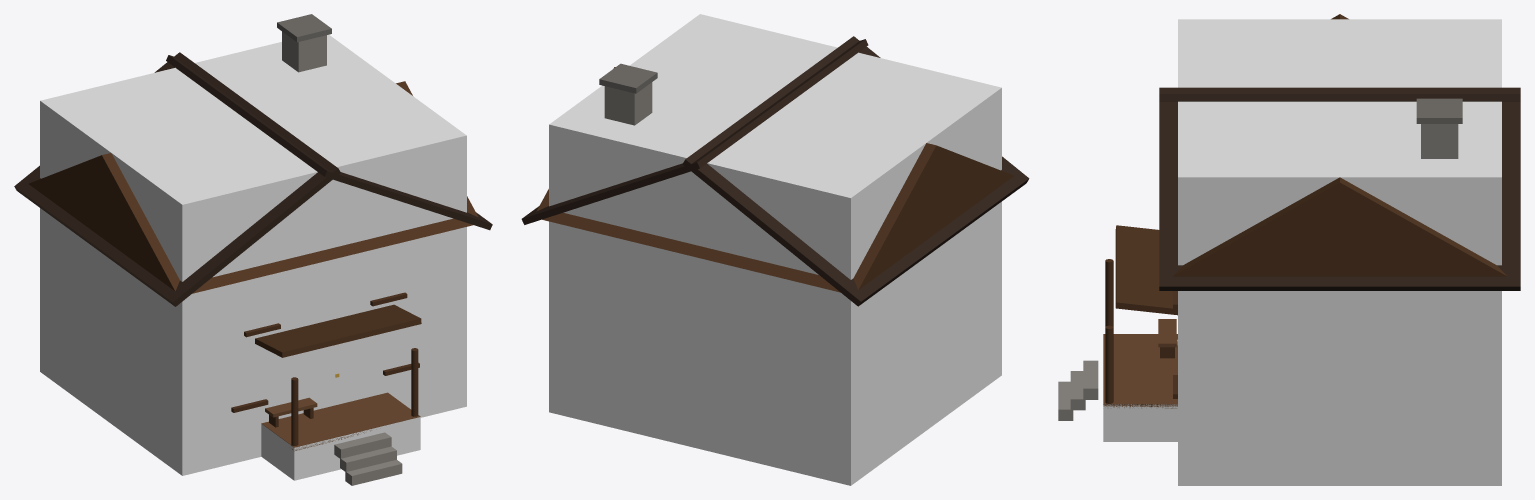
File: refugio.glb
3 views of the same model, side by side, from view 1: azimuth 30°, elevation 25°; view 2: azimuth 150°, elevation 25°; view 3: azimuth 270°, elevation 25° (orthographic). The views are drawn at different scales.
Visible parts, largest first — view 1: COL_0, refugio_Malla, COL_1; view 2: COL_0, refugio_Malla; view 3: COL_0, refugio_Malla, COL_1.
Boxes of the visible parts, x1=… form: COL_0: x1=40, y1=34, x2=466, y2=475; refugio_Malla: x1=14, y1=14, x2=492, y2=485; COL_1: x1=261, y1=417, x2=420, y2=480; COL_0: x1=549, y1=14, x2=1001, y2=485; refugio_Malla: x1=521, y1=36, x2=1029, y2=306; COL_0: x1=1178, y1=19, x2=1501, y2=485; refugio_Malla: x1=1058, y1=14, x2=1520, y2=420; COL_1: x1=1103, y1=404, x2=1177, y2=441.
Bounding box in the file's own units: 10.13 × 9.33 × 11.13.
